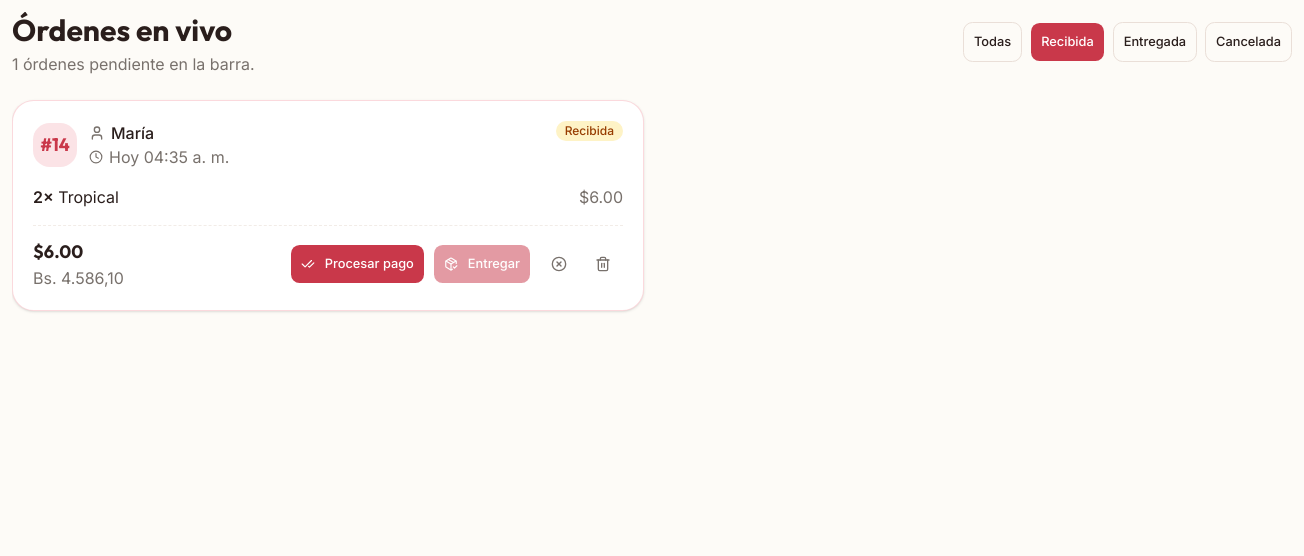
PanelOrdenes › muestra el botón de eliminar para el admin en cualquier estado
Click the button "Todas" at (993,42), box [963,22,1022,62]
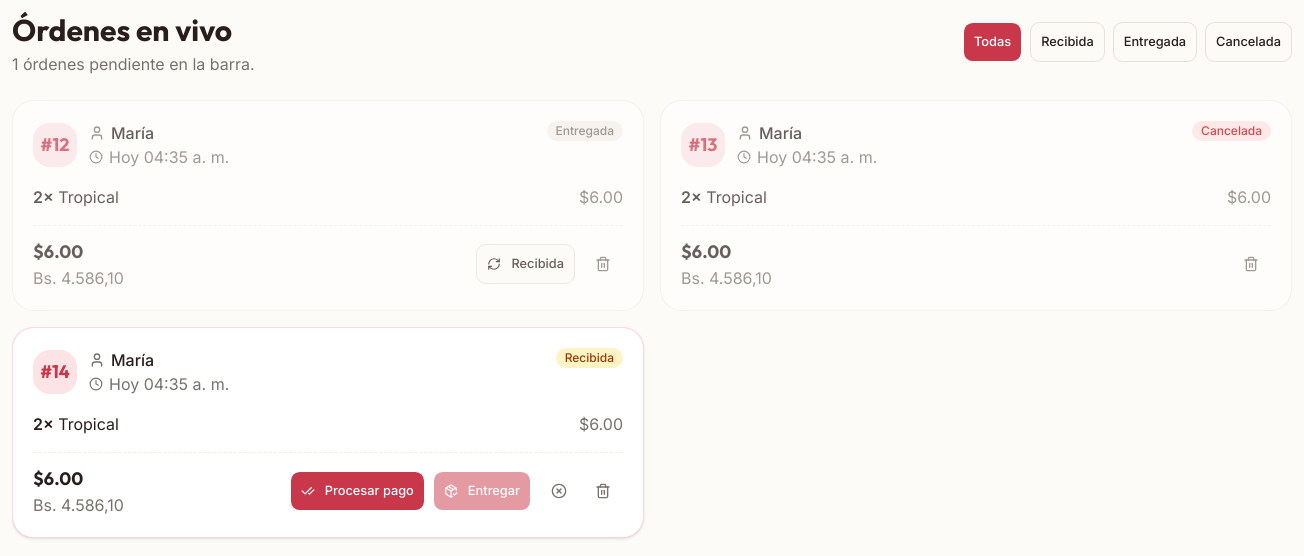
expect the number of buttons named "Eliminar orden 12" is 3: met, box [583,244,623,284]; [1231,244,1271,284]; [583,471,623,511]
